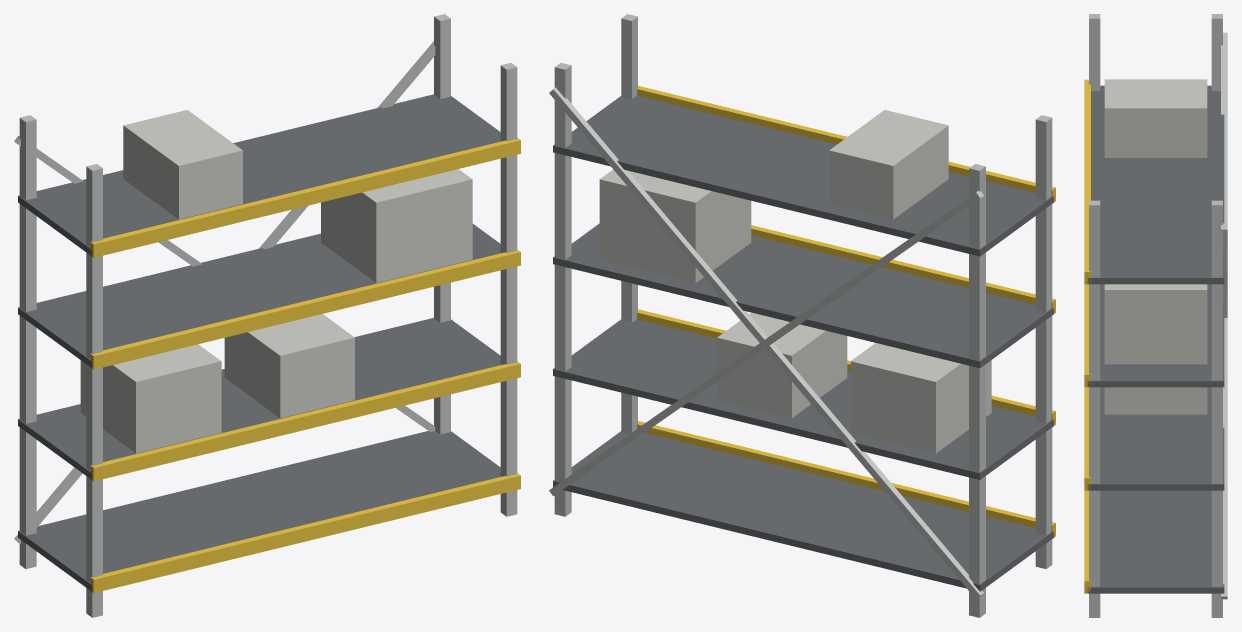
File: kit_shelf.glb
3 renders of one model, left to right at view 1: azimuth 30°, elevation 25°; view 2: azimuth 150°, elevation 25°; view 3: azimuth 270°, elevation 25°, orthographic. The views are drawn at different scales.
Visible parts, largest first — view 1: shelf, bin.002, bin, bin.001, bin.003; view 2: shelf, bin.002, bin, bin.003, bin.001; view 3: shelf, bin.002, bin.003, bin.001.
Part boxes in pixels (x1,y1,x2,y2): shelf: (14,14,520,617); bin.002: (321,169,472,282); bin: (80,344,221,453); bin.001: (224,314,354,418); bin.003: (123,110,242,219); shelf: (549,14,1055,617); bin.002: (599,169,751,282); bin: (850,343,991,453); bin.003: (829,110,948,219); bin.001: (717,312,847,418); shelf: (1084,14,1227,617); bin.002: (1104,284,1207,364); bin.003: (1104,79,1207,157); bin.001: (1104,387,1207,414).
Size of the model in its own units: 2.02 by 2 by 0.63.
